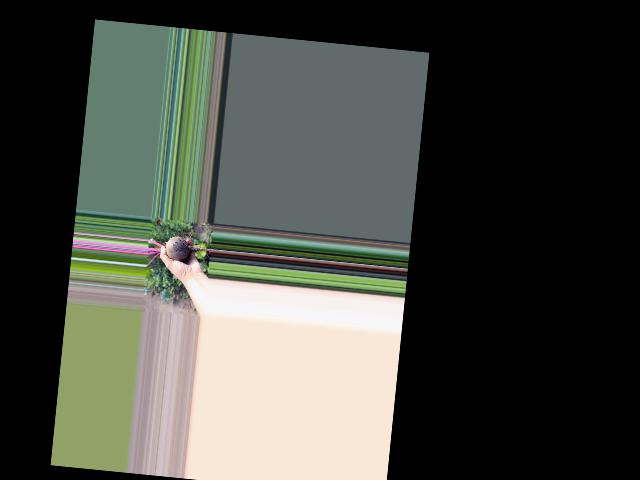beet: (146, 223, 213, 273)
